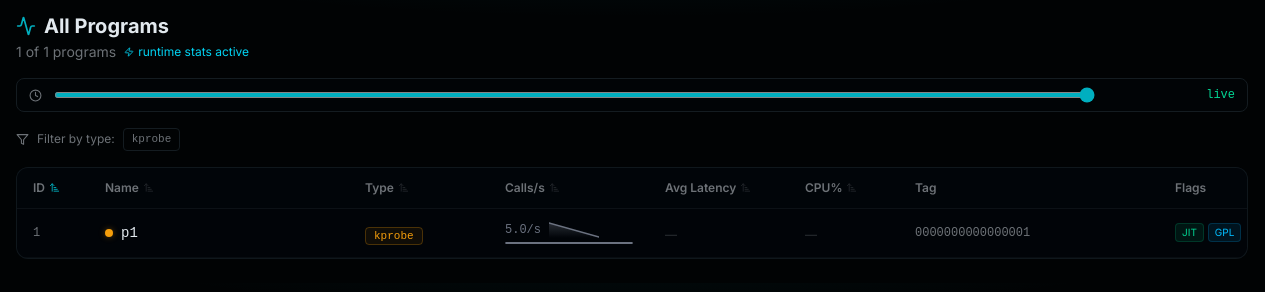
Scenario: ProgramsView time scrubber › shows live rates, then the historical interval's rates when scrubbed back
Set the slider named "Scrub through recent history" to "0" at [62, 95], box [54, 92, 1095, 98]
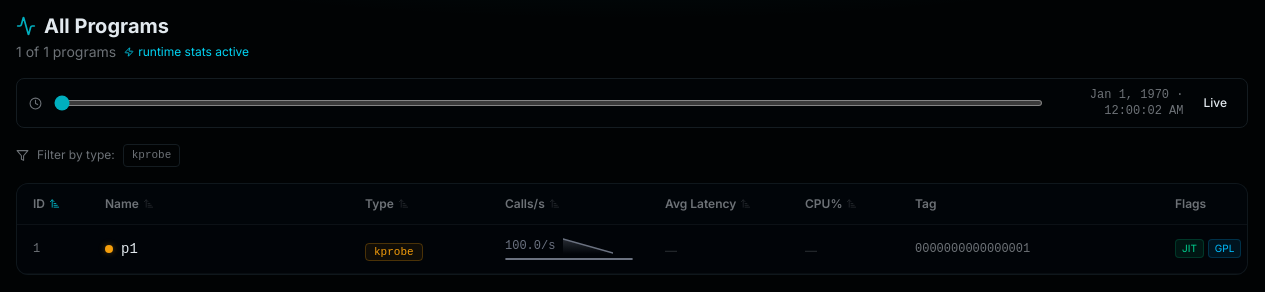
Expected: the button "Live" is shown, [1196, 91, 1235, 115]
Expected: the text "100.0/s" is shown, [505, 238, 555, 254]
Expected: the text "5.0/s" is gone
